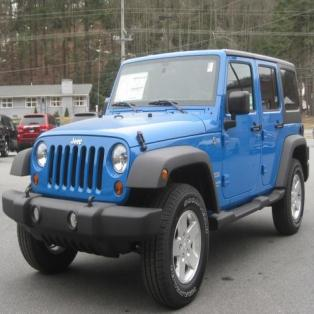Auto: (1, 47, 311, 311)
